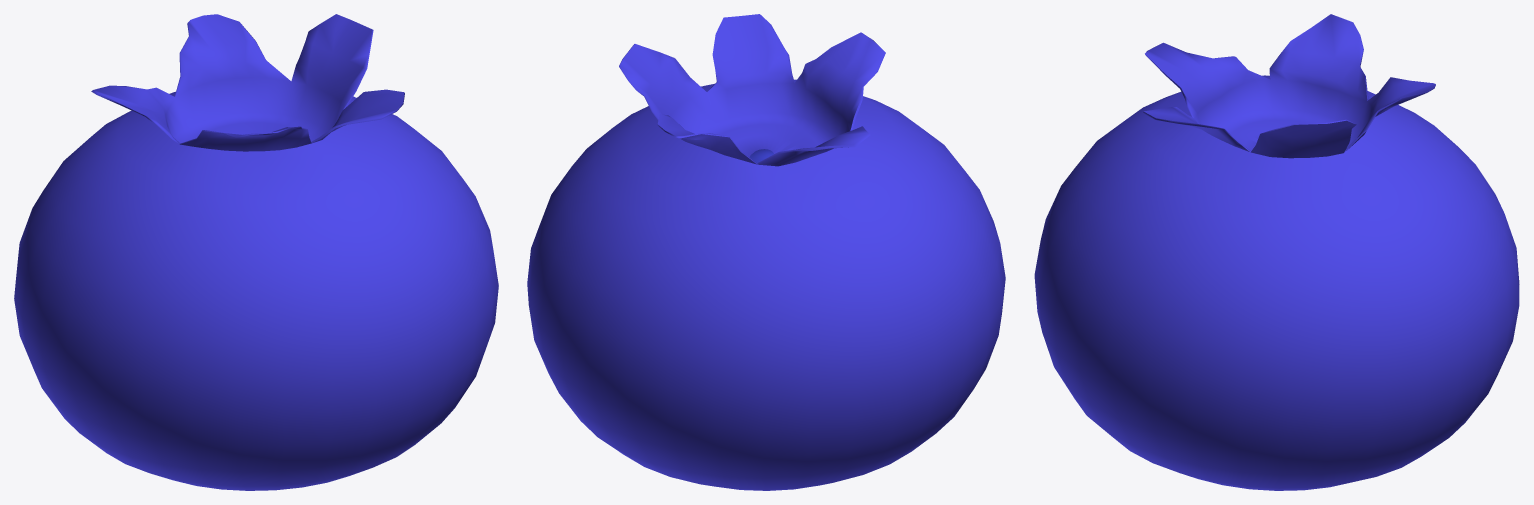
Rendered from blueberry.fbx.
3 views of the same model, side by side, from view 1: azimuth 30°, elevation 25°; view 2: azimuth 150°, elevation 25°; view 3: azimuth 270°, elevation 25° (orthographic).
Visible parts, largest first — view 1: Blueberry; view 2: Blueberry; view 3: Blueberry.
Boxes of the visible parts, x1,y1,x2,y2 form: Blueberry: (14, 14, 498, 490); Blueberry: (527, 14, 1005, 490); Blueberry: (1034, 14, 1519, 490).
Size of the model in its own units: 69.24 by 61.17 by 69.09.
